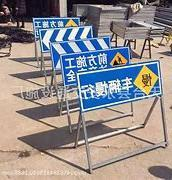sign: (78, 62, 163, 115), (61, 51, 136, 86), (28, 15, 94, 38)
